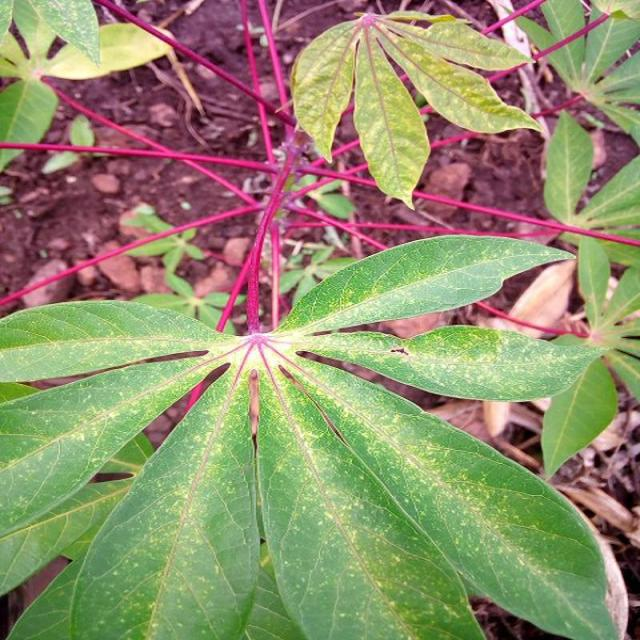cassava leaf: (1, 222, 618, 638), (288, 9, 542, 210)
